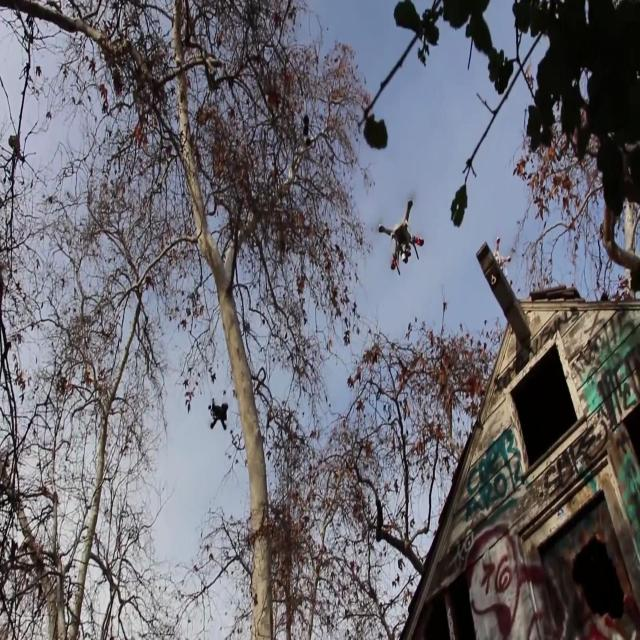drone: (377, 194, 424, 276)
